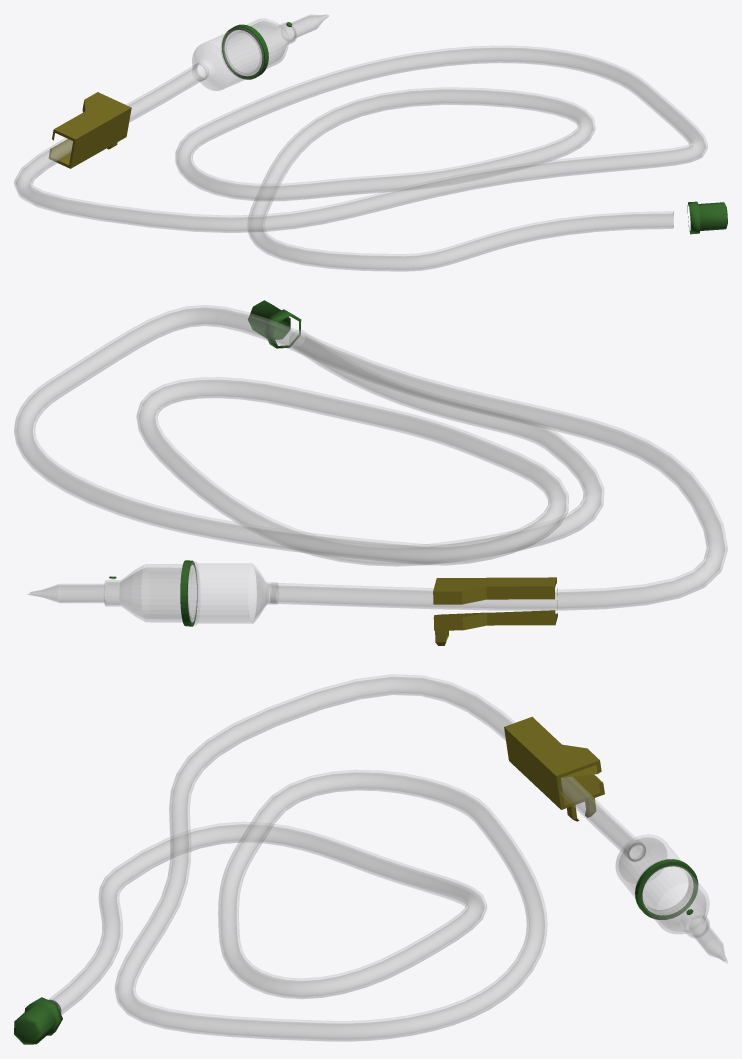
The model's file is 2_Infusion_open.gltf.
3 renders of one model, top to bottom at view 1: azimuth 30°, elevation 25°; view 2: azimuth 150°, elevation 25°; view 3: azimuth 270°, elevation 25°, orthographic. The views are drawn at different scales.
Parts seen in each view (by area): view 1: decker.006, decker.008, decker.004, decker.002, decker.003; view 2: decker.006, decker.008, decker.004, decker.002, decker.003; view 3: decker.006, decker.008, decker.004, decker.002, decker.003.
Boxes of the visible parts, bbox=[...] form: decker.006: bbox=[14, 46, 707, 271]; decker.008: bbox=[16, 48, 705, 268]; decker.004: bbox=[192, 14, 328, 90]; decker.002: bbox=[48, 92, 131, 168]; decker.003: bbox=[222, 22, 727, 234]; decker.006: bbox=[14, 305, 727, 610]; decker.008: bbox=[17, 308, 724, 607]; decker.004: bbox=[27, 561, 277, 625]; decker.002: bbox=[433, 577, 557, 645]; decker.003: bbox=[109, 300, 301, 626]; decker.006: bbox=[48, 674, 637, 1041]; decker.008: bbox=[52, 677, 643, 1038]; decker.004: bbox=[615, 834, 727, 963]; decker.002: bbox=[504, 716, 604, 821]; decker.003: bbox=[14, 859, 698, 1044].
Size of the model in its own units: 5.29 by 0.5473 by 4.67.
